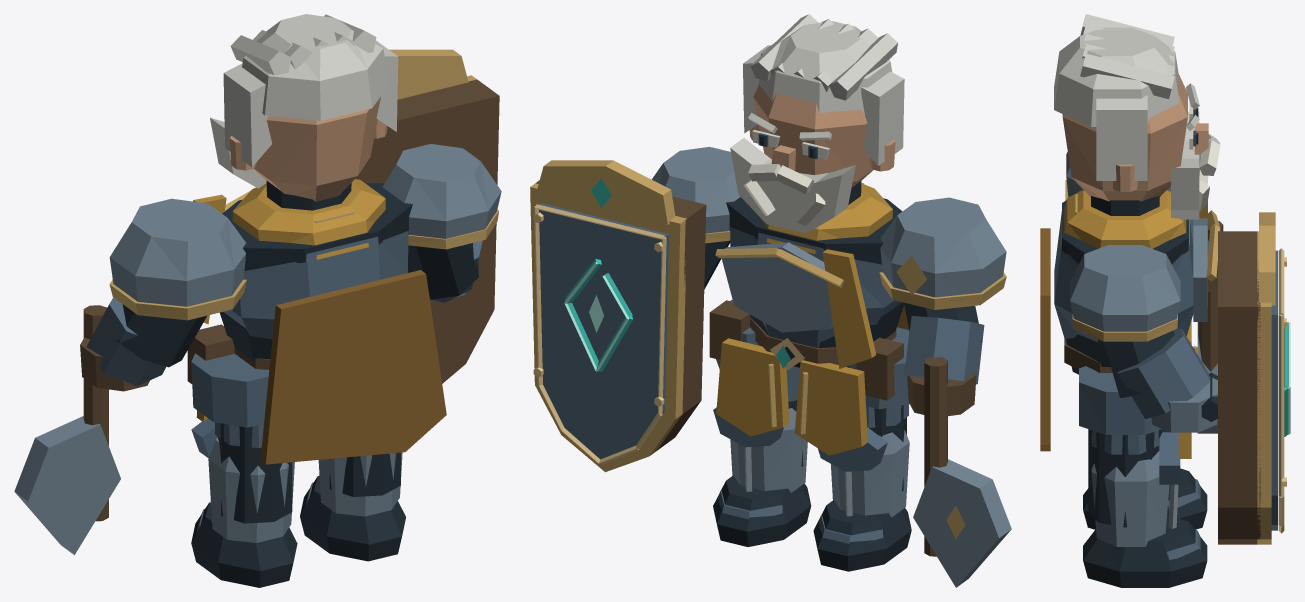
File: Hold.fbx
The picture shows the model from 3 angles, left to right: view 1: azimuth 30°, elevation 25°; view 2: azimuth 150°, elevation 25°; view 3: azimuth 270°, elevation 25°; orthographic projection. The views are drawn at different scales.
Parts seen in each view (by area): view 1: Body, ArmR, ArmL, Head, LegR, LegL; view 2: ArmL, Body, ArmR, Head, LegR, LegL; view 3: ArmL, Head, Body, LegL, ArmR, LegR.
Boxes of the visible parts, x1,y1,x2,y2 form: Body: [187, 179, 446, 464]; ArmR: [14, 198, 246, 554]; ArmL: [355, 49, 501, 383]; Head: [210, 14, 398, 201]; LegR: [191, 418, 297, 587]; LegL: [300, 452, 405, 561]; ArmL: [530, 146, 740, 472]; Body: [709, 180, 909, 455]; ArmR: [879, 197, 1011, 587]; Head: [730, 14, 904, 233]; LegR: [813, 404, 911, 571]; LegL: [713, 366, 811, 546]; ArmL: [1070, 212, 1290, 544]; Head: [1054, 14, 1220, 219]; Body: [1040, 189, 1220, 458]; LegL: [1083, 429, 1207, 587]; ArmR: [1065, 152, 1223, 433]; LegR: [1083, 429, 1207, 529].
Bounding box in the file's own units: 1.09 × 1.15 × 0.5128.
1 material, 1 textured.
